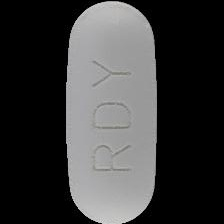35356-438: (0, 0, 224, 224)
